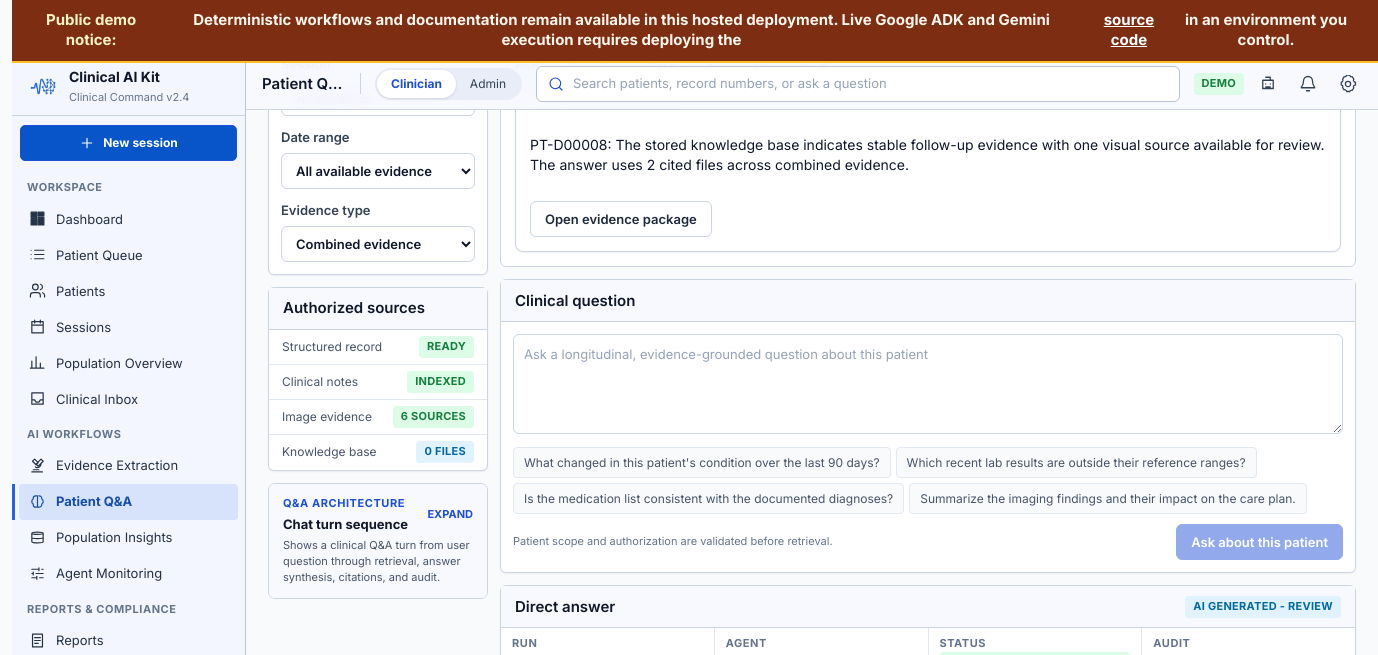
Test case: clinical product shell › shows Q&A agent progress while a patient answer is being assembled
(page scrolled)
Replace the text in the text box with placeholder "Ask a longitudinal" with "What changed between the last two sessions?" at [928, 384], box x1=513 y1=334 x2=1343 y2=434
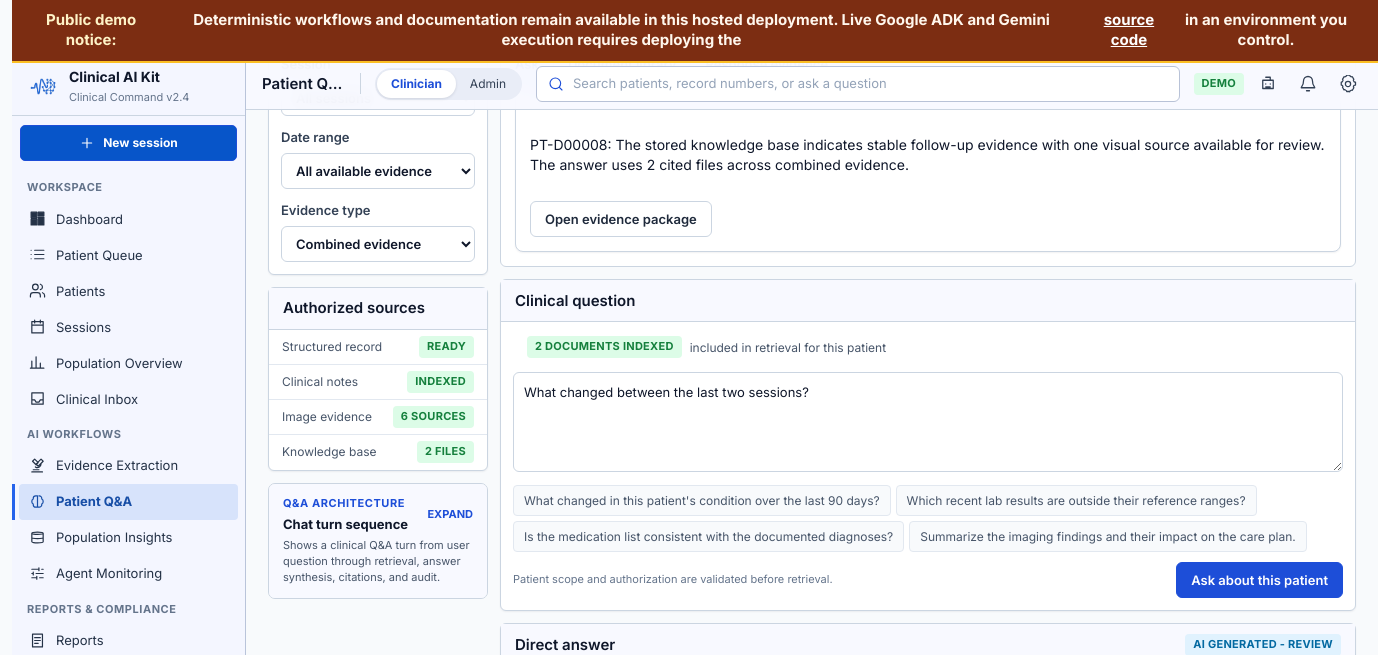
Click the button "Ask about this patient".
click(1260, 580)  # box x1=1176 y1=562 x2=1343 y2=598
(page scrolled)
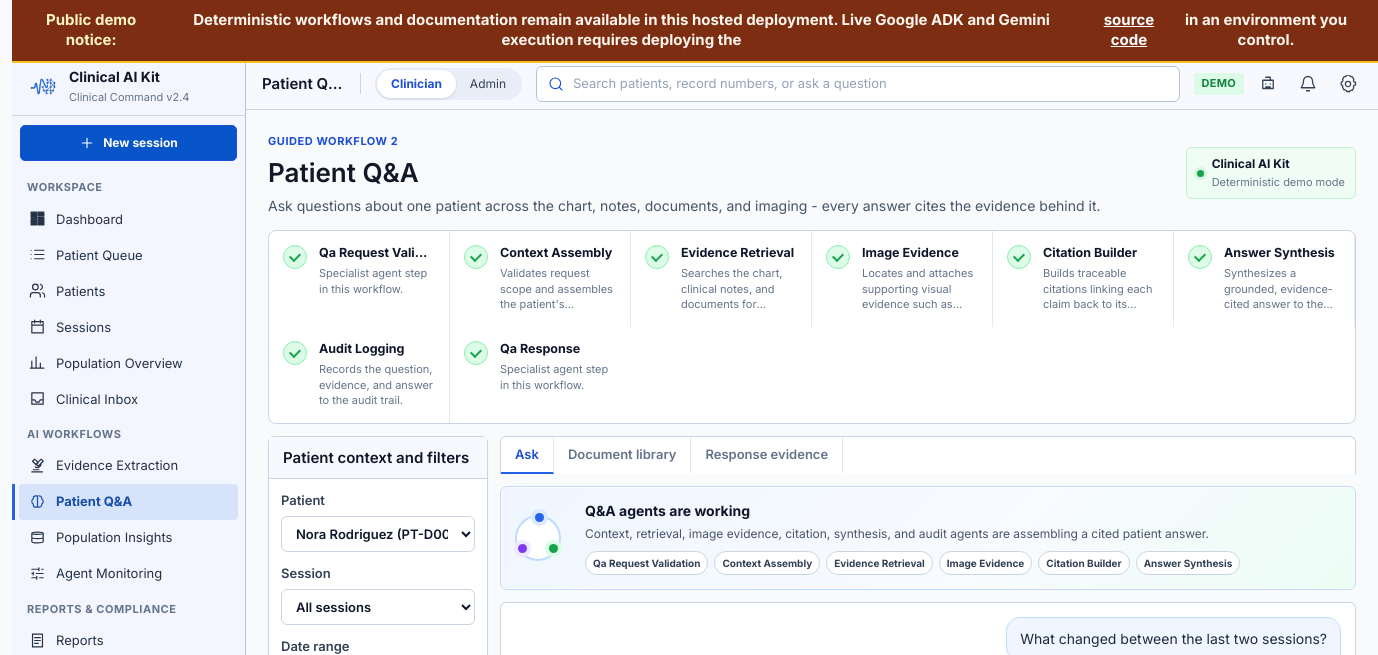
expect the 1st text "Evidence Retrieval" is shown: met, box x1=681 y1=244 x2=797 y2=262
expect the message "Q&A agents are working" is shown: met, box x1=500 y1=486 x2=1356 y2=590
